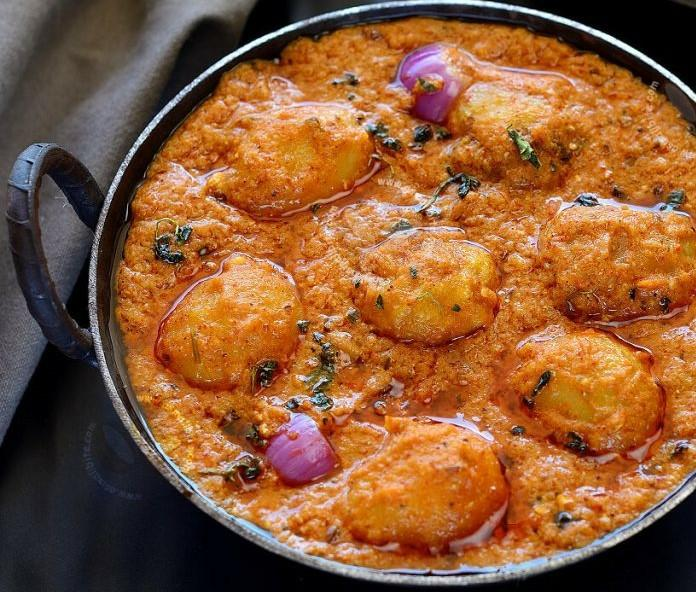DumAloo: (107, 13, 696, 574)
